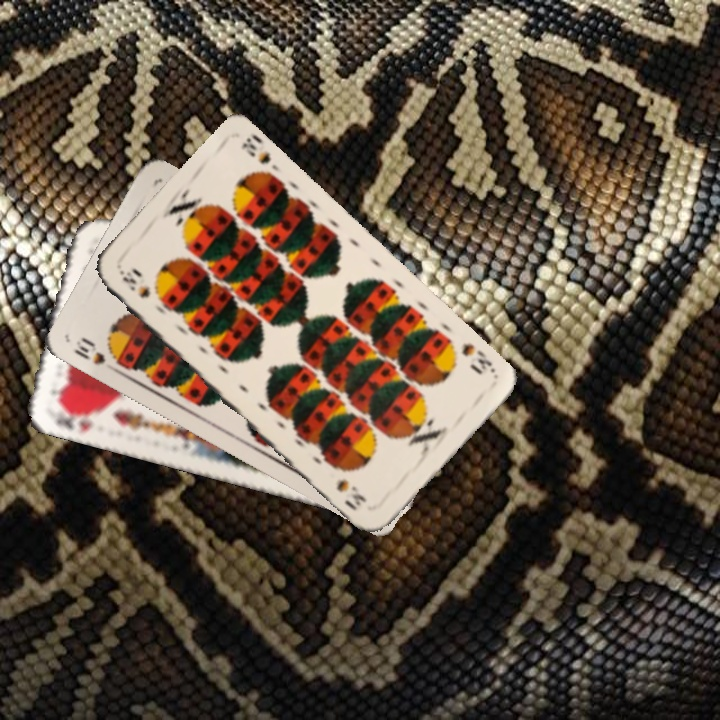HK: (51, 401, 101, 435)
S10: (70, 334, 121, 375), (457, 339, 498, 378), (115, 266, 153, 301)
